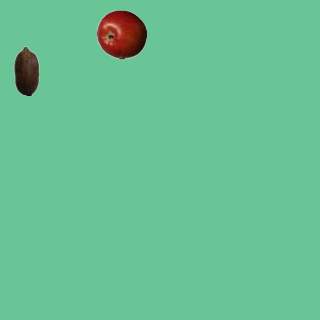Apple Braeburn: (96, 9, 146, 59)
Nut Pecan: (1, 45, 51, 95)
